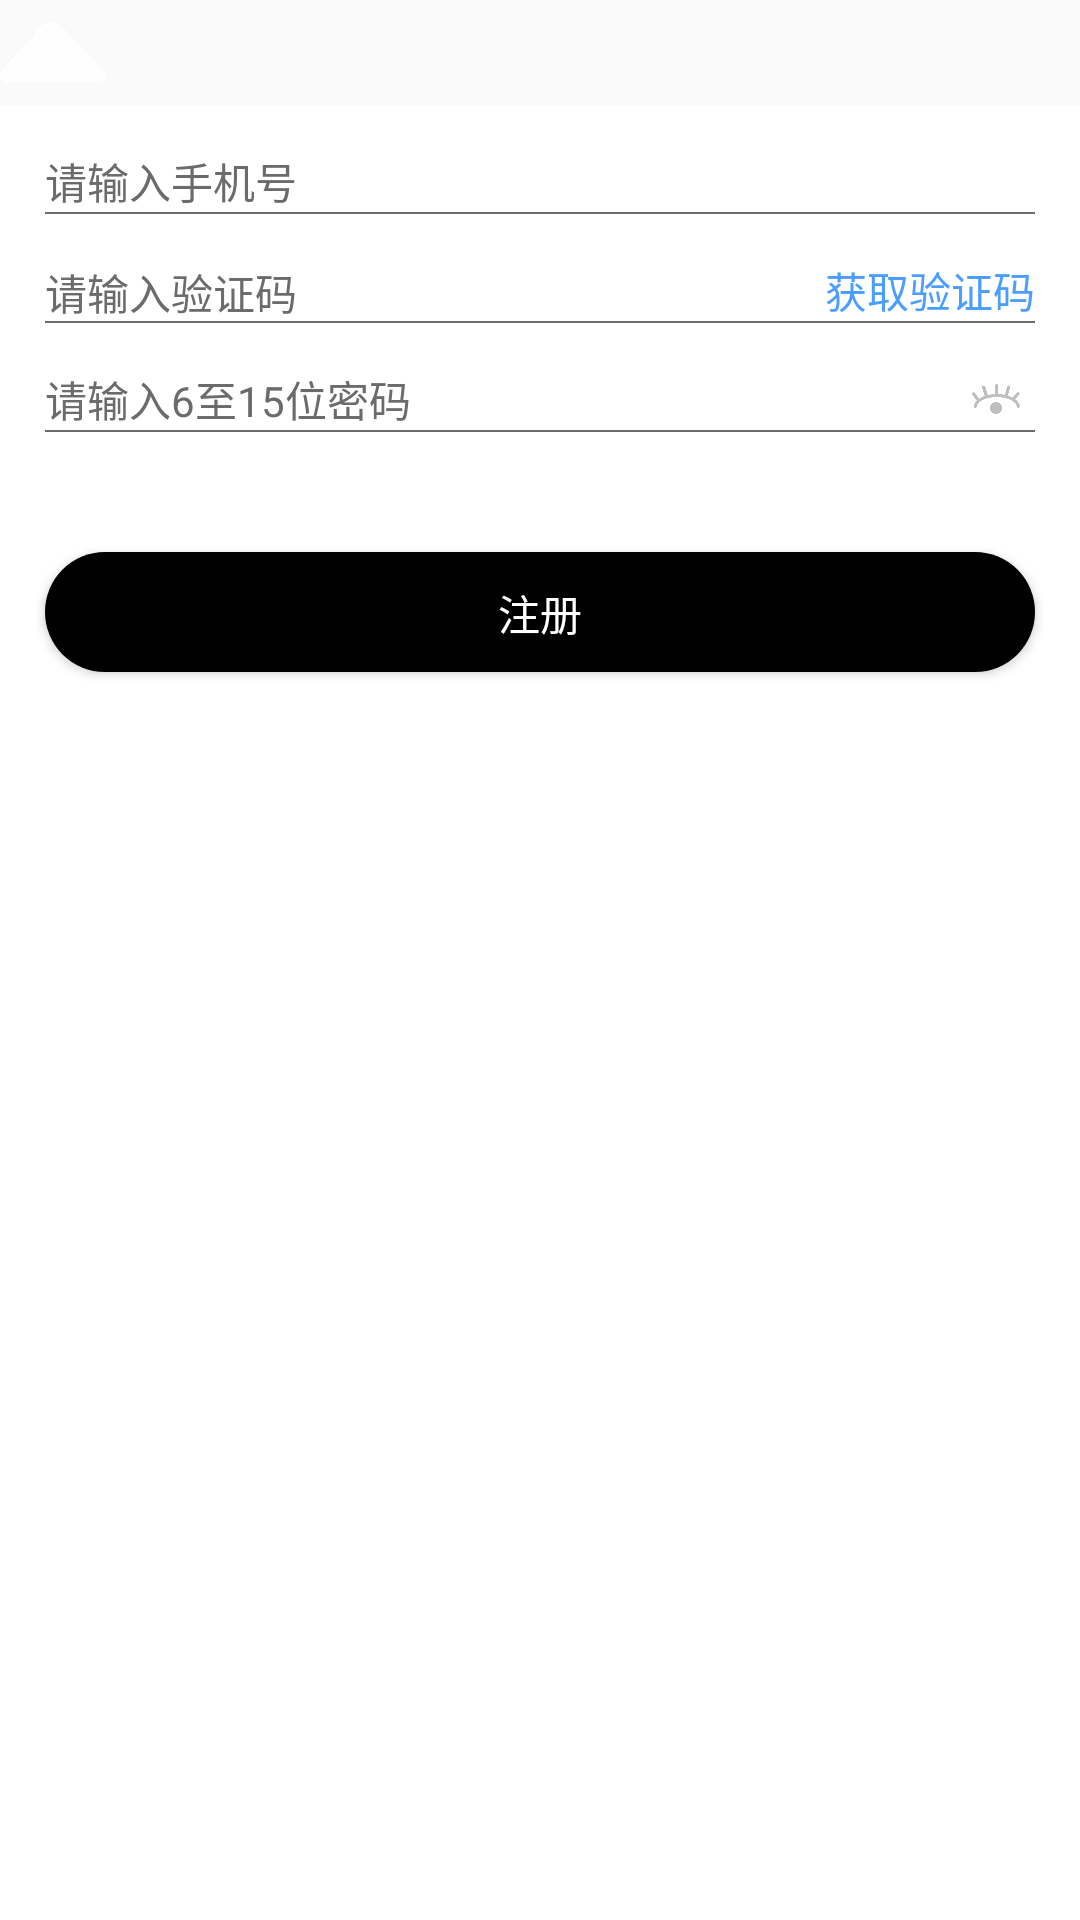

Named icons in this screenshot (1080 x 1920) and their bounding boxes, [x1, y1, x2, y2]:
ed show: [972, 384, 1020, 414]
